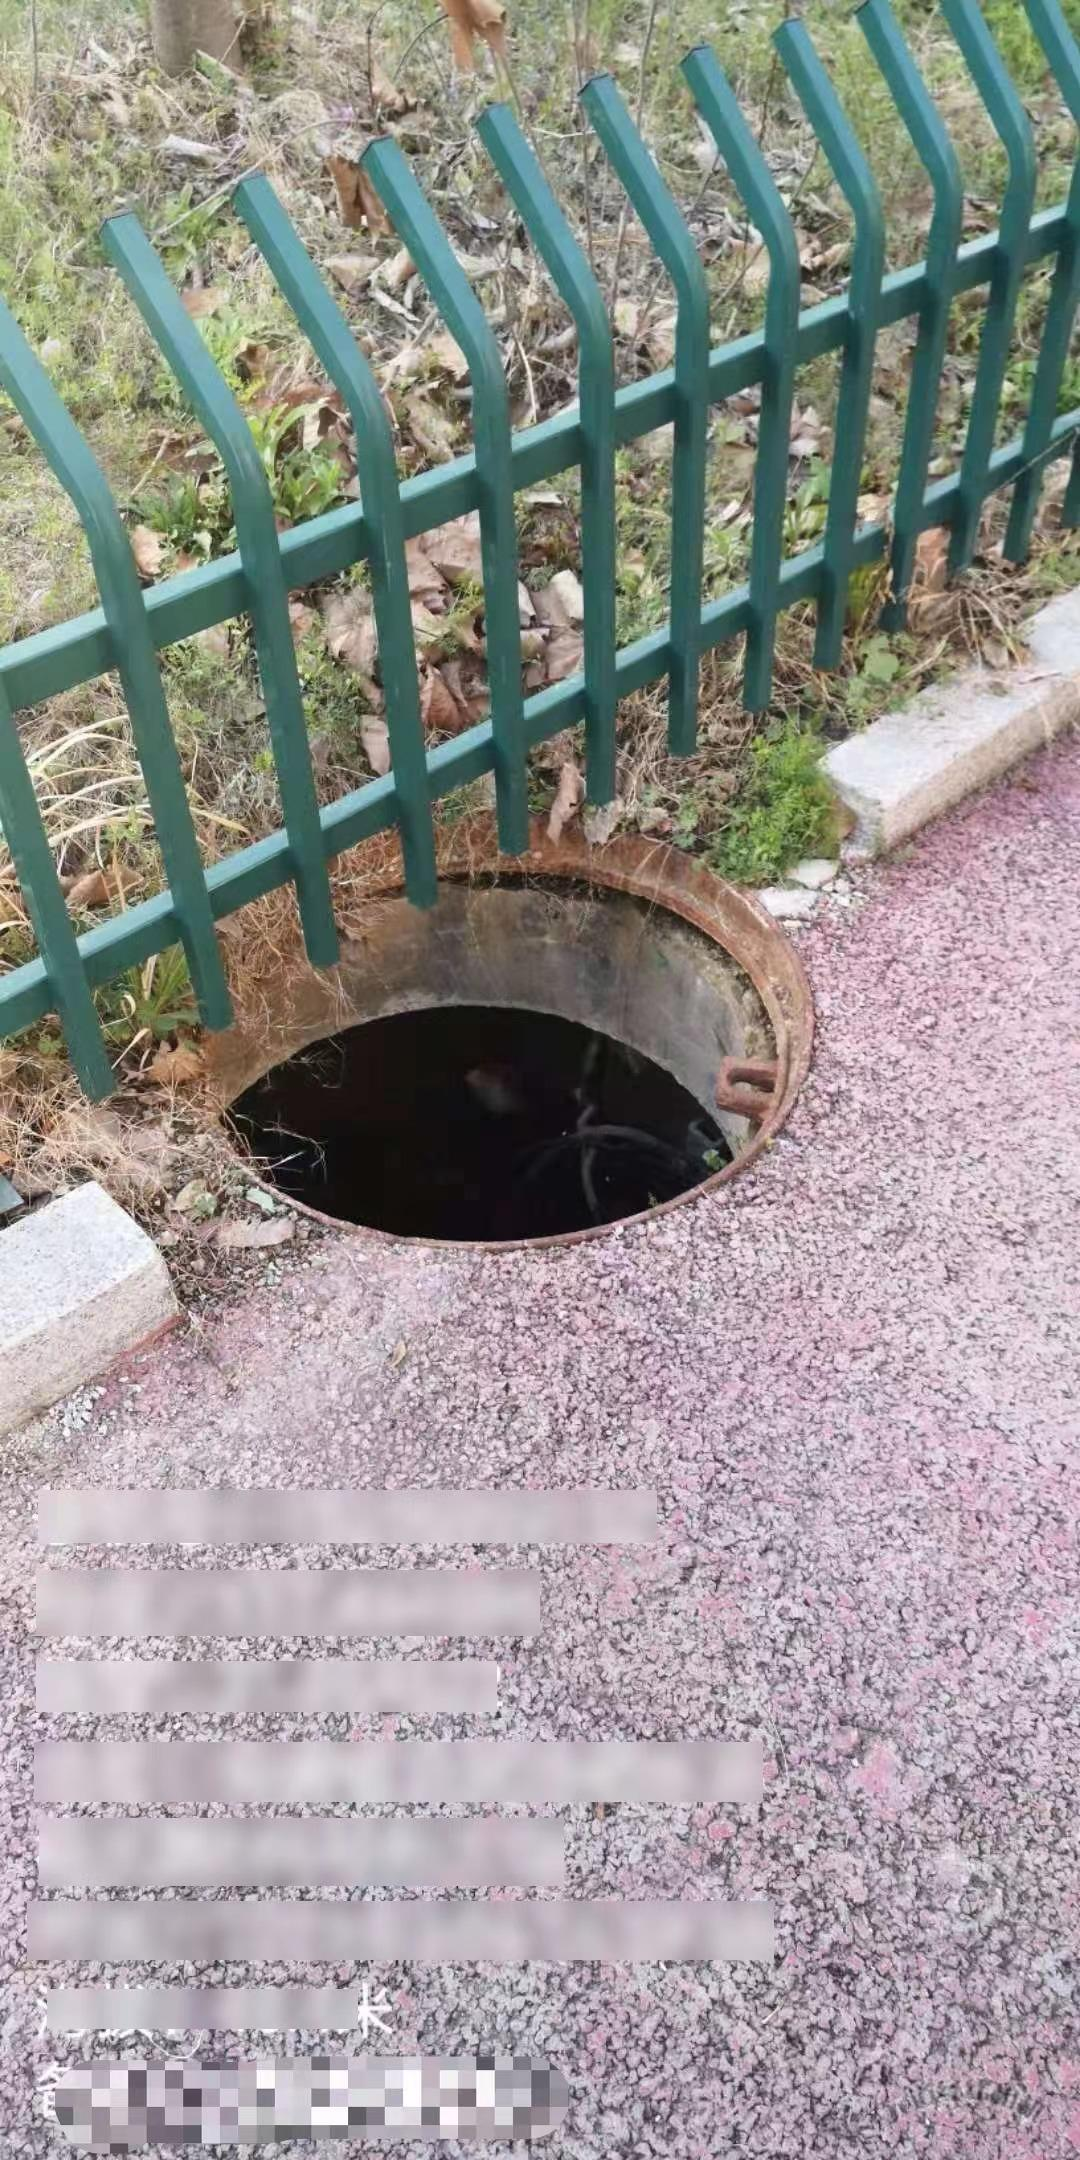wellcover: (198, 798, 828, 1243)
